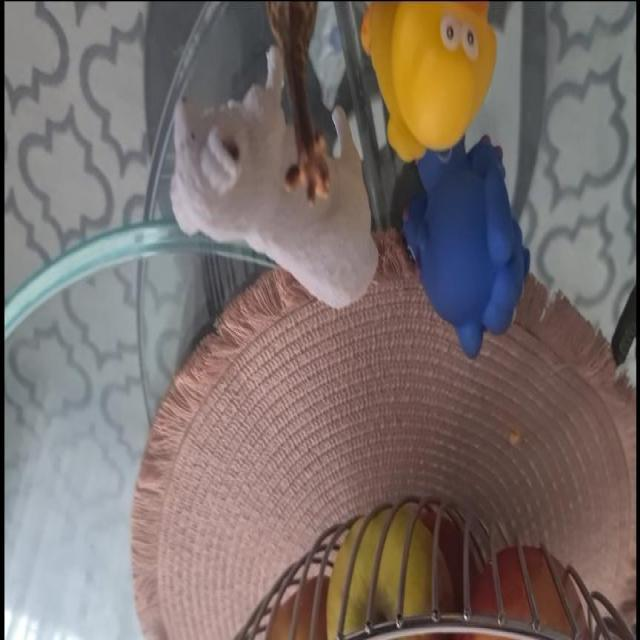hard-toy: (404, 141, 530, 358), (362, 4, 497, 162)
